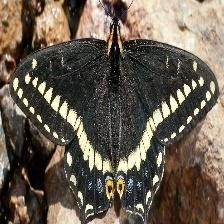butterfly: (9, 16, 220, 224)
